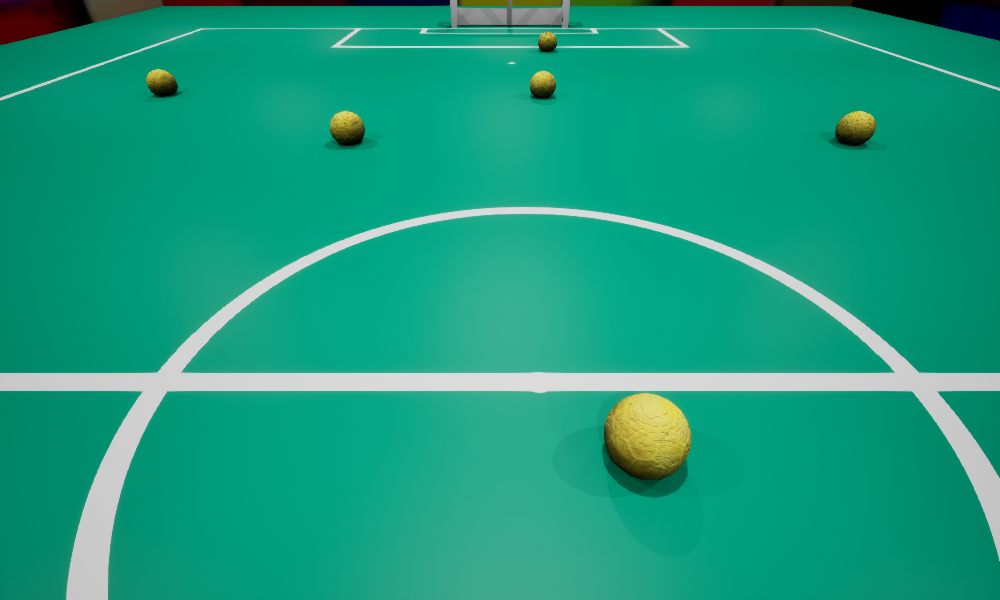b: (604, 393, 690, 479), (835, 111, 875, 144), (330, 111, 364, 144), (146, 69, 177, 95), (530, 71, 555, 97), (538, 31, 556, 51)
g: (450, 0, 569, 27)
